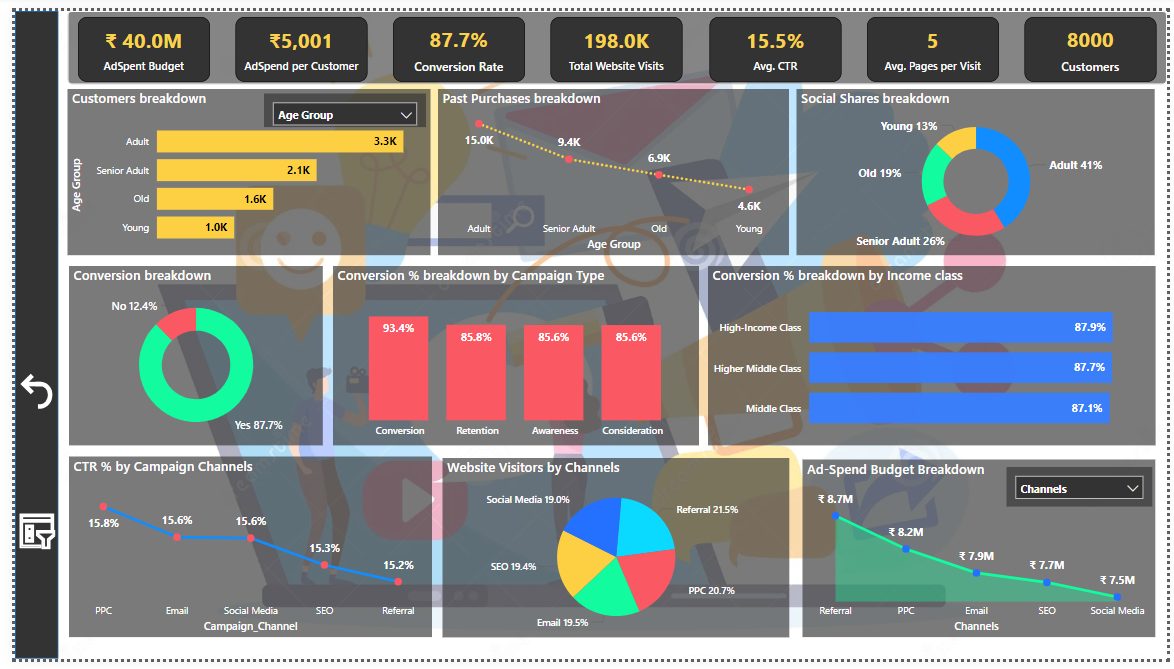

The dashboard page shown, as its layout file describes it:
{"tool":"powerbi","page":{"name":"Dashboard","canvas":[1280,720],"ordinal":0},"visuals":[{"type":"shape","box":[0,0,48.2,719.6],"z":0},{"type":"shape","box":[58.3,0,1221.7,81.7],"z":0,"group":"g1"},{"type":"clusteredBarChart","title":"Customers breakdown ","fields":{"Category":["Lookup Table.Age_Group #"],"Y":["DAX Measures.Total customers/ Visitors"]},"box":[57.8,86.7,403.2,184.6],"z":0,"group":"g3"},{"type":"lineChart","title":"Ad-Spend Budget Breakdown ","fields":{"Category":["Lookup Table.Campaign_Channel"],"Y":["DAX Measures.Total AdSpend Budget"]},"box":[874.4,498.7,391.9,197.5],"z":0,"group":"g2"},{"type":"group","id":"g1","title":"KPI Group","box":[58.3,0,1221.7,81.7],"z":1000},{"type":"card","fields":{"Values":["DAX Measures.Total AdSpend Budget"]},"box":[70,6.9,146.7,71.7],"z":1000,"group":"g1"},{"type":"slicer","fields":{"Values":["set-1: Customer attributes .set-1: Customer attributes "]},"box":[276.3,91.3,179.7,37.2],"z":1000,"group":"g3"},{"type":"slicer","fields":{"Values":["Set-2: Campaign attributes.Set-2: Campaign attributes"]},"box":[1100.4,506.6,161.9,43.7],"z":1000,"group":"g2"},{"type":"card","fields":{"Values":["DAX Measures.Avg Pages per visit"]},"box":[946.4,6.9,146.7,71.7],"z":2000,"group":"g1"},{"type":"donutChart","title":"Conversion breakdown","fields":{"Category":["Lookup Table.Conversion"],"Y":["DAX Measures.Total customers/ Visitors"]},"box":[59.9,283.4,281.7,199.2],"z":2000},{"type":"card","fields":{"Values":["DAX Measures.Total Website Visits"]},"box":[595.8,6.9,146.7,71.7],"z":3000,"group":"g1"},{"type":"columnChart","title":"Conversion % breakdown by Campaign Type","fields":{"Category":["Lookup Table.Campaign_Type"],"Y":["DAX Measures.Conversion %"]},"box":[353,283.4,406.4,199.2],"z":3000},{"type":"card","fields":{"Values":["DAX Measures.Avg AdSpend"]},"box":[245.2,6.9,146.7,71.7],"z":4000,"group":"g1"},{"type":"lineChart","title":"CTR % by Campaign Channels","fields":{"Y":["DAX Measures.Avg CTR"],"Category":["Lookup Table.Campaign_Channel"]},"box":[59.9,495.5,403.2,200.8],"z":4000},{"type":"card","fields":{"Values":["DAX Measures.Total customers/ Visitors"]},"box":[1121.6,6.9,146.7,71.7],"z":5000,"group":"g1"},{"type":"pieChart","title":"Website Visitors by Channels","fields":{"Category":["Lookup Table.Campaign_Channel"],"Y":["DAX Measures.Total customers/ Visitors"]},"box":[474.4,497.1,385.4,199.2],"z":5000},{"type":"card","fields":{"Values":["DAX Measures.Avg CTR"]},"box":[771.1,6.9,146.7,71.7],"z":6000,"group":"g1"},{"type":"group","id":"g2","title":"Ad-Spend Budget Breakdown","box":[874.4,498.7,391.9,197.5],"z":6000},{"type":"card","fields":{"Values":["DAX Measures.Conversion %"]},"box":[420.5,6.9,146.7,71.7],"z":7000,"group":"g1"},{"type":"clusteredBarChart","title":"Conversion % breakdown by Income class","fields":{"Y":["DAX Measures.Conversion %"],"Category":["Lookup Table.Incom_Level_Category #"]},"box":[770.8,283.4,497.1,199.2],"z":7000},{"type":"donutChart","title":"Social Shares breakdown","fields":{"Category":["Lookup Table.Age_Group #"],"Y":["Sum(Fact Table.Social_Shares)"]},"box":[867.9,87.4,398.3,184.6],"z":8000},{"type":"group","id":"g3","title":"Group 1","box":[57.8,86.7,403.2,184.6],"z":9000},{"type":"lineChart","title":"Past Purchases breakdown","fields":{"Category":["Lookup Table.Age_Group #"],"Y":["DAX Measures.Total Past Purchases"]},"box":[469.6,87.4,390.2,184.6],"z":10000},{"type":"actionButton","box":[0,383.8,48.6,77.7],"z":11000},{"type":"actionButton","box":[0,550.5,48.6,55.1],"z":12000}]}

Visuals, with their boxes in screenshot pixels (x1, y1, x2, y2), scaled from the page's 1280x720 canvas onto the 1174x669 screenshot:
shape: {"x1": 0, "y1": 0, "x2": 44, "y2": 668}
shape: {"x1": 53, "y1": 0, "x2": 1173, "y2": 76}
"Customers breakdown " clusteredBarChart: {"x1": 53, "y1": 81, "x2": 423, "y2": 252}
"Ad-Spend Budget Breakdown " lineChart: {"x1": 802, "y1": 463, "x2": 1161, "y2": 647}
"KPI Group" group: {"x1": 53, "y1": 0, "x2": 1173, "y2": 76}
card - DAX Measures.Total AdSpend Budget: {"x1": 64, "y1": 6, "x2": 199, "y2": 73}
slicer - set-1: Customer attributes .set-1: Customer attributes : {"x1": 253, "y1": 85, "x2": 418, "y2": 119}
slicer - Set-2: Campaign attributes.Set-2: Campaign attributes: {"x1": 1009, "y1": 471, "x2": 1158, "y2": 511}
card - DAX Measures.Avg Pages per visit: {"x1": 868, "y1": 6, "x2": 1003, "y2": 73}
"Conversion breakdown" donutChart: {"x1": 55, "y1": 263, "x2": 313, "y2": 448}
card - DAX Measures.Total Website Visits: {"x1": 546, "y1": 6, "x2": 681, "y2": 73}
"Conversion % breakdown by Campaign Type" columnChart: {"x1": 324, "y1": 263, "x2": 697, "y2": 448}
card - DAX Measures.Avg AdSpend: {"x1": 225, "y1": 6, "x2": 359, "y2": 73}
"CTR % by Campaign Channels" lineChart: {"x1": 55, "y1": 460, "x2": 425, "y2": 647}
card - DAX Measures.Total customers/ Visitors: {"x1": 1029, "y1": 6, "x2": 1163, "y2": 73}
"Website Visitors by Channels" pieChart: {"x1": 435, "y1": 462, "x2": 789, "y2": 647}
card - DAX Measures.Avg CTR: {"x1": 707, "y1": 6, "x2": 842, "y2": 73}
"Ad-Spend Budget Breakdown" group: {"x1": 802, "y1": 463, "x2": 1161, "y2": 647}
card - DAX Measures.Conversion %: {"x1": 386, "y1": 6, "x2": 520, "y2": 73}
"Conversion % breakdown by Income class" clusteredBarChart: {"x1": 707, "y1": 263, "x2": 1163, "y2": 448}
"Social Shares breakdown" donutChart: {"x1": 796, "y1": 81, "x2": 1161, "y2": 253}
"Group 1" group: {"x1": 53, "y1": 81, "x2": 423, "y2": 252}
"Past Purchases breakdown" lineChart: {"x1": 431, "y1": 81, "x2": 789, "y2": 253}
actionButton: {"x1": 0, "y1": 357, "x2": 45, "y2": 429}
actionButton: {"x1": 0, "y1": 512, "x2": 45, "y2": 563}
